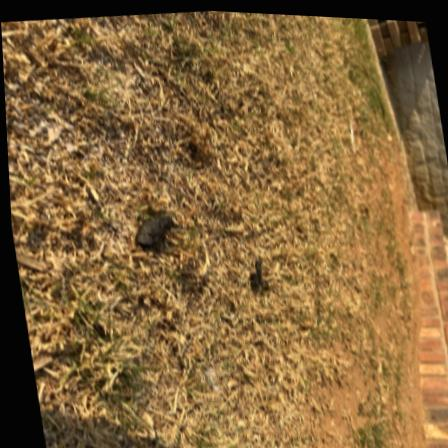dog-poop: (127, 205, 181, 252), (238, 252, 270, 292)
